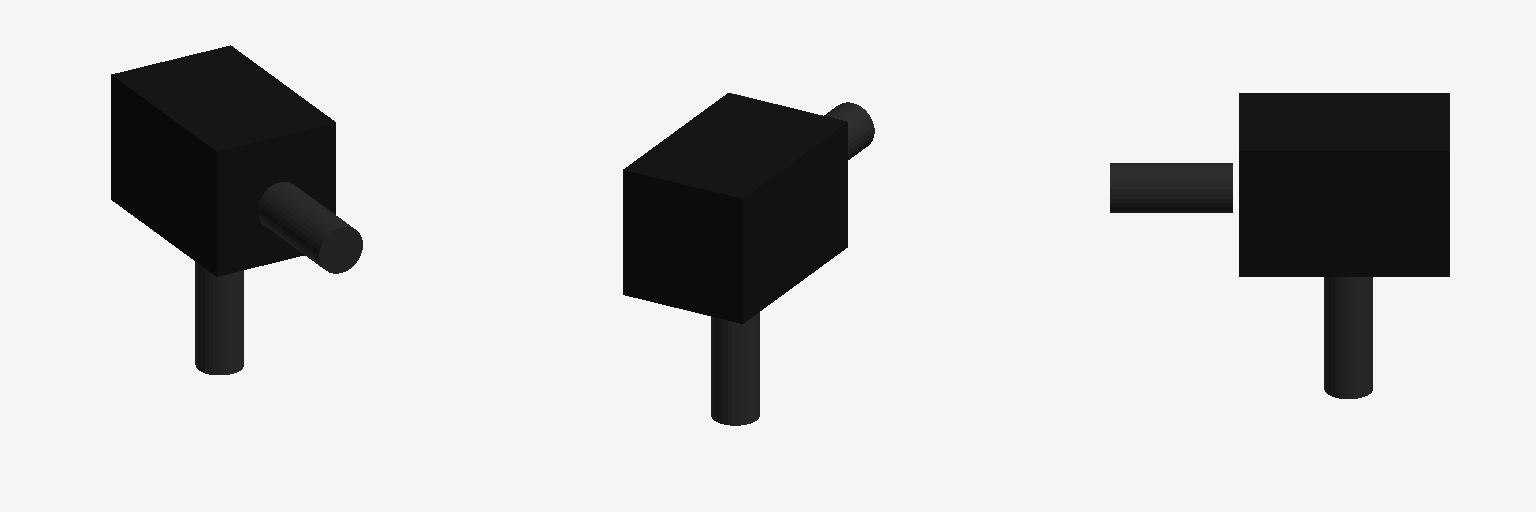
Rendered from sentry_top.obj.
3 views of the same model, side by side, from view 1: azimuth 30°, elevation 25°; view 2: azimuth 150°, elevation 25°; view 3: azimuth 270°, elevation 25° (orthographic).
Parts seen in each view (by area): view 1: Cube.004, Cylinder.001, Cylinder; view 2: Cube.004, Cylinder, Cylinder.001; view 3: Cube.004, Cylinder.001, Cylinder.
Boxes of the visible parts, x1=… form: Cube.004: x1=111, y1=45, x2=335, y2=276; Cylinder.001: x1=258, y1=182, x2=362, y2=273; Cylinder: x1=195, y1=262, x2=243, y2=374; Cube.004: x1=623, y1=93, x2=847, y2=323; Cylinder: x1=711, y1=312, x2=759, y2=425; Cylinder.001: x1=824, y1=102, x2=874, y2=159; Cube.004: x1=1239, y1=93, x2=1449, y2=276; Cylinder.001: x1=1110, y1=163, x2=1232, y2=212; Cylinder: x1=1324, y1=277, x2=1372, y2=398.
Bounding box in the file's own units: 0.5208 × 1.11 × 1.28.